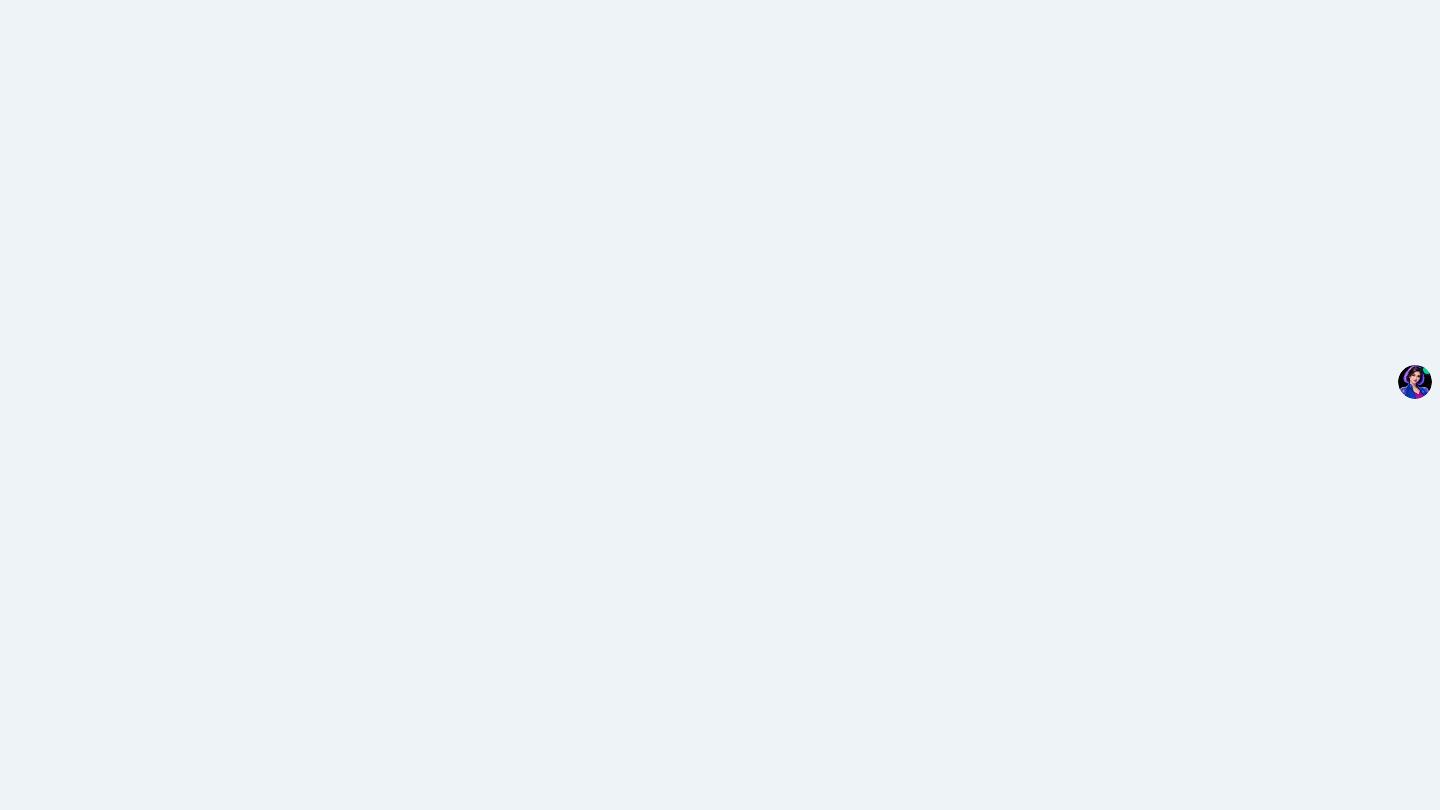
Test: IallkaFloatingIcon — ícone e painel › 8. contexto de Projetos: sugestões específicas aparecem
This screenshot has width=1440, height=810.
Click the button named "Falar com a Aura" at (1415, 382), box [1398,365,1432,399]
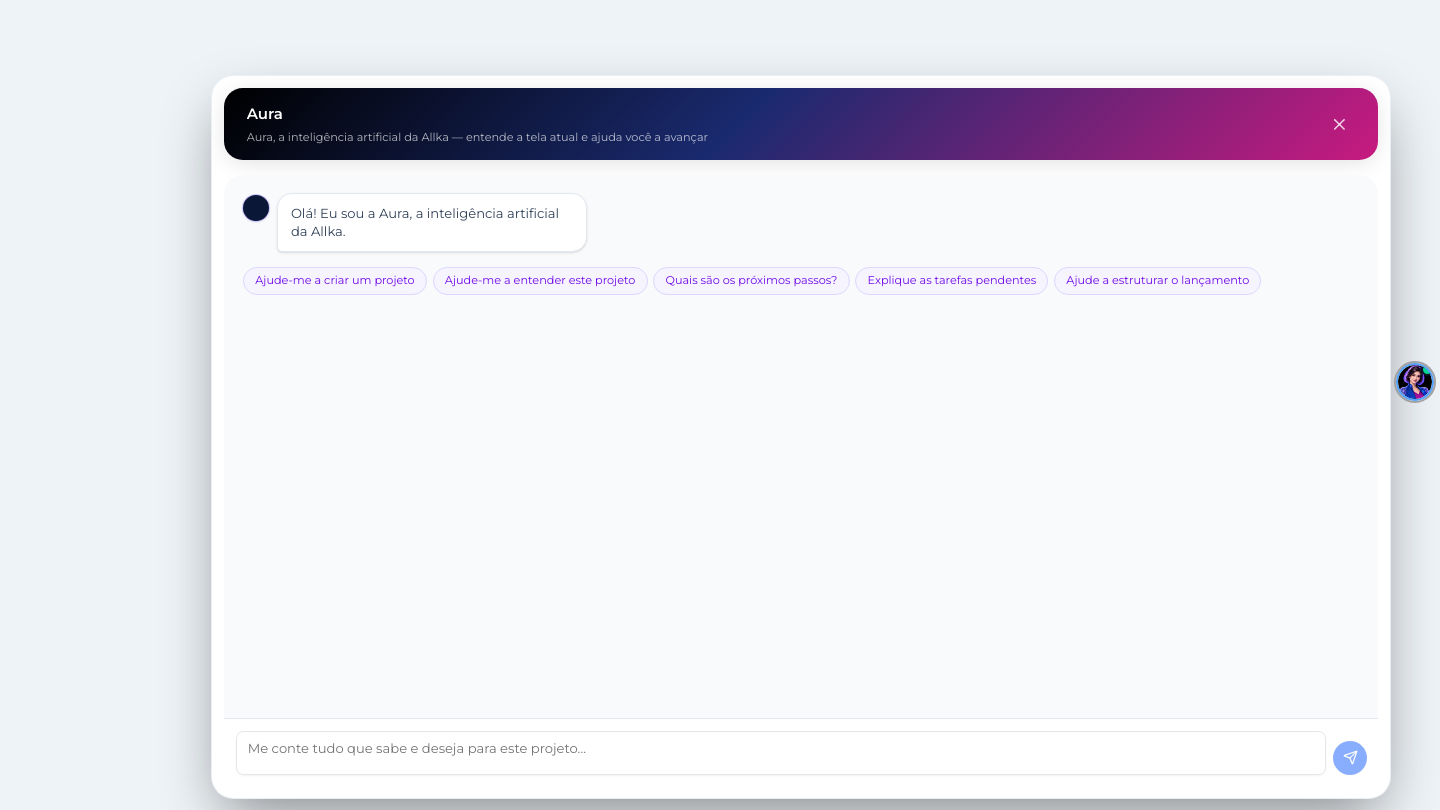
Now the heading "Aura" is shown, box [247,104,283,123]
Now the button "Quais são os próximos passos?" is shown, box [653,266,850,295]
Now the button "Ajude-me a criar um projeto" is shown, box [243,266,427,295]
